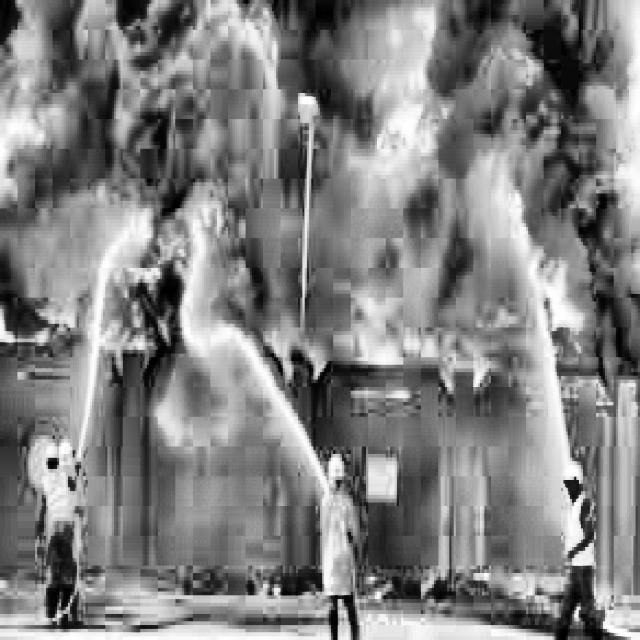fire: (3, 32, 619, 399)
